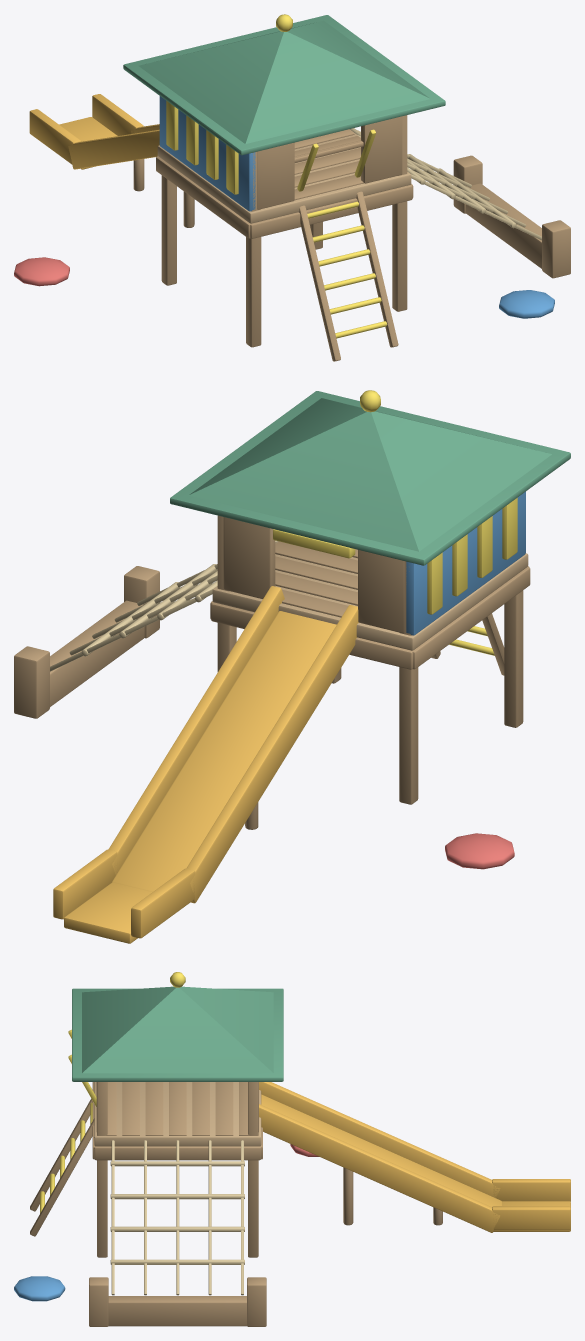
File: th16_spielturm.glb
3 renders of one model, top to bottom at view 1: azimuth 30°, elevation 25°; view 2: azimuth 150°, elevation 25°; view 3: azimuth 270°, elevation 25°, orthographic. The views are drawn at different scales.
Parts seen in each view (by area): view 1: Pyr, Cube.016, Cube.004, Cube.029, Cube.037, Cube.027, Cube.028, Cube.046, Cube.005, Cube.002, Cube, Cube.001 (+18 smaller); view 2: Pyr, Cube.035, Cube.016, Cube.037, Cube.039, Cube.029, Cube.004, Cube.023, Cube.021, Cube.046, Cube.036, Cube.001 (+19 smaller); view 3: Pyr, Cube.039, Cube.046, Cube.037, Cube.004, Cube.016, Cube.035, Cube.008, Cube.040, Cube.038, Cube.003, Cube.002 (+21 smaller).
Part boxes in pixels (left/top/right/bottom): Pyr: left=138, top=20, right=430, bottom=143; Cube.016: left=123, top=15, right=445, bottom=155; Cube.004: left=157, top=129, right=411, bottom=223; Cube.029: left=159, top=96, right=255, bottom=211; Cube.037: left=68, top=129, right=159, bottom=169; Cube.027: left=257, top=142, right=294, bottom=209; Cube.028: left=361, top=116, right=402, bottom=183; Cube.046: left=466, top=183, right=541, bottom=268; Cube.005: left=250, top=185, right=412, bottom=238; Cube.002: left=392, top=115, right=407, bottom=311; Cube: left=246, top=152, right=261, bottom=347; Cube.001: left=161, top=175, right=176, bottom=285; Pyr: left=188, top=398, right=551, bottom=551; Cube.035: left=112, top=611, right=336, bottom=891; Cube.016: left=170, top=391, right=570, bottom=565; Cube.037: left=187, top=605, right=358, bottom=903; Cube.039: left=109, top=586, right=284, bottom=874; Cube.029: left=406, top=491, right=525, bottom=635; Cube.004: left=212, top=541, right=528, bottom=650; Cube.023: left=223, top=517, right=275, bottom=598; Cube.021: left=358, top=550, right=404, bottom=633; Cube.046: left=50, top=600, right=144, bottom=706; Cube.036: left=64, top=882, right=152, bottom=943; Cube.001: left=399, top=561, right=418, bottom=804; Pyr: left=82, top=986, right=273, bottom=1073; Cube.039: left=259, top=1104, right=500, bottom=1232; Cube.046: left=108, top=1296, right=246, bottom=1326; Cube.037: left=259, top=1082, right=500, bottom=1197; Cube.004: left=94, top=1082, right=261, bottom=1146; Cube.016: left=72, top=988, right=283, bottom=1081; Cube.035: left=261, top=1094, right=501, bottom=1206; Cube.008: left=94, top=1146, right=261, bottom=1160; Cube.040: left=492, top=1206, right=570, bottom=1229; Cube.038: left=492, top=1179, right=570, bottom=1201; Cube.003: left=248, top=1082, right=258, bottom=1257; Cube.002: left=97, top=1082, right=107, bottom=1257.
Bounding box in the file's own units: 4.9 × 3.09 × 6.21.
